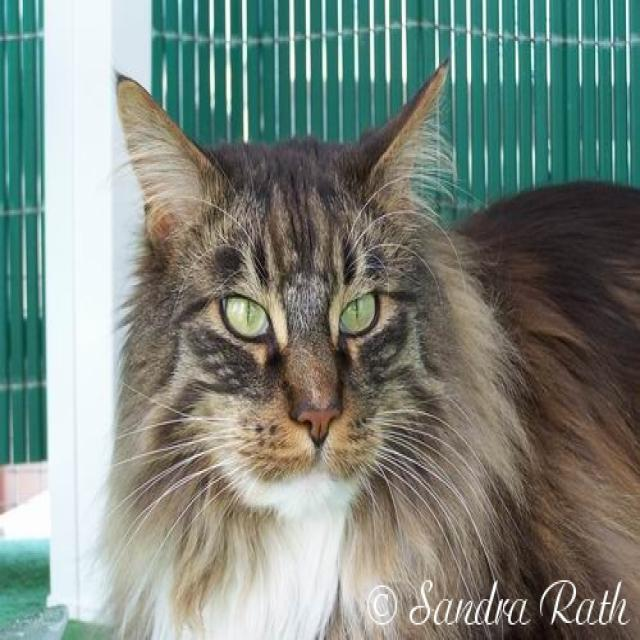left eye: (337, 287, 382, 338)
